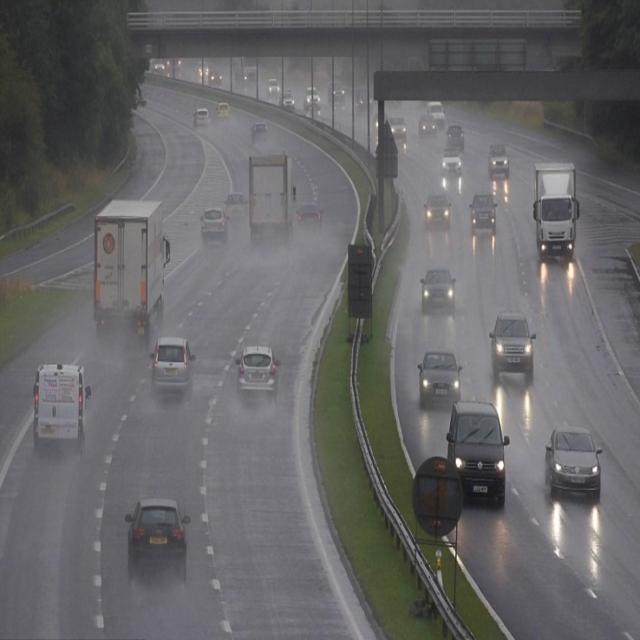Car: (126, 494, 191, 580), (544, 425, 602, 499), (488, 312, 536, 381), (416, 349, 462, 409), (150, 336, 194, 398), (235, 342, 280, 399), (419, 266, 456, 315), (469, 192, 497, 236), (423, 192, 452, 230), (199, 206, 228, 242), (384, 115, 408, 148), (488, 144, 510, 178), (295, 203, 324, 228), (224, 192, 248, 220), (441, 150, 463, 178), (445, 125, 465, 152), (418, 112, 437, 136), (305, 87, 321, 113), (329, 84, 346, 108), (251, 122, 268, 143), (281, 91, 296, 113), (194, 106, 209, 127), (208, 69, 224, 88), (267, 78, 281, 99), (216, 101, 231, 120), (150, 60, 166, 76)
Truck: (94, 198, 172, 339), (532, 158, 582, 264), (247, 152, 299, 242), (231, 56, 257, 92)
Van: (446, 398, 510, 508), (33, 360, 90, 450)
